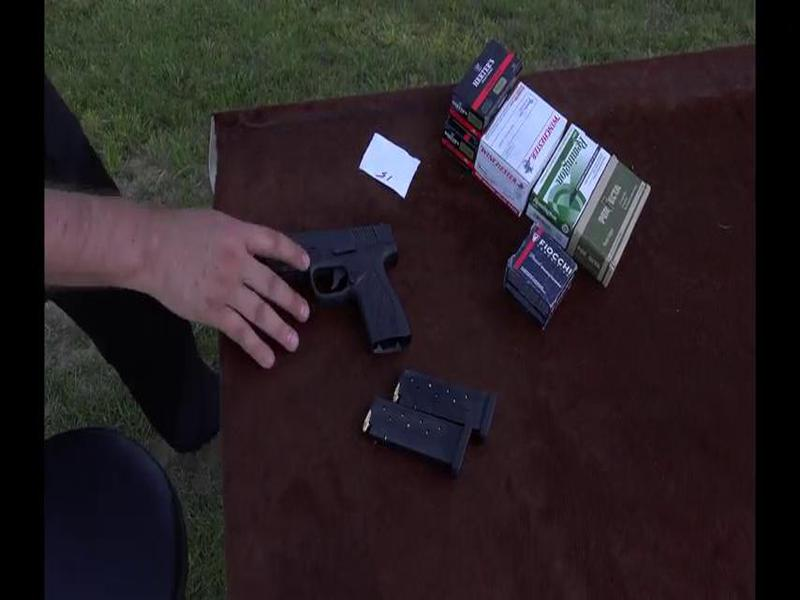Pistola: (250, 215, 425, 358)
